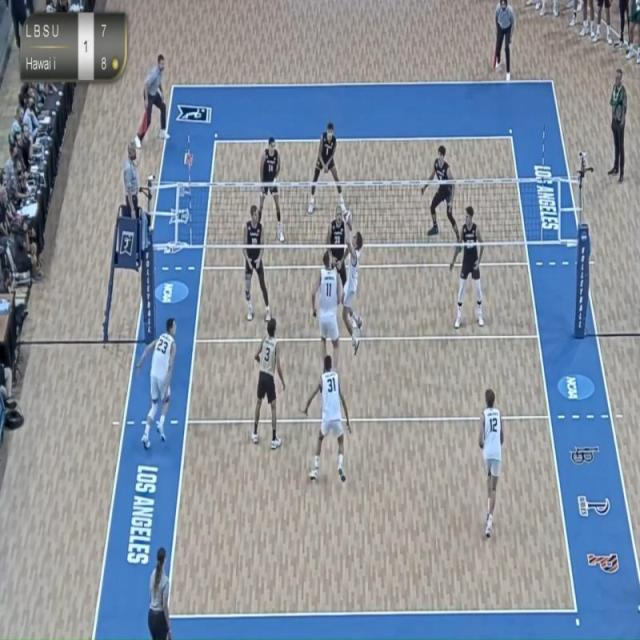volleyball: (341, 204, 354, 230)
